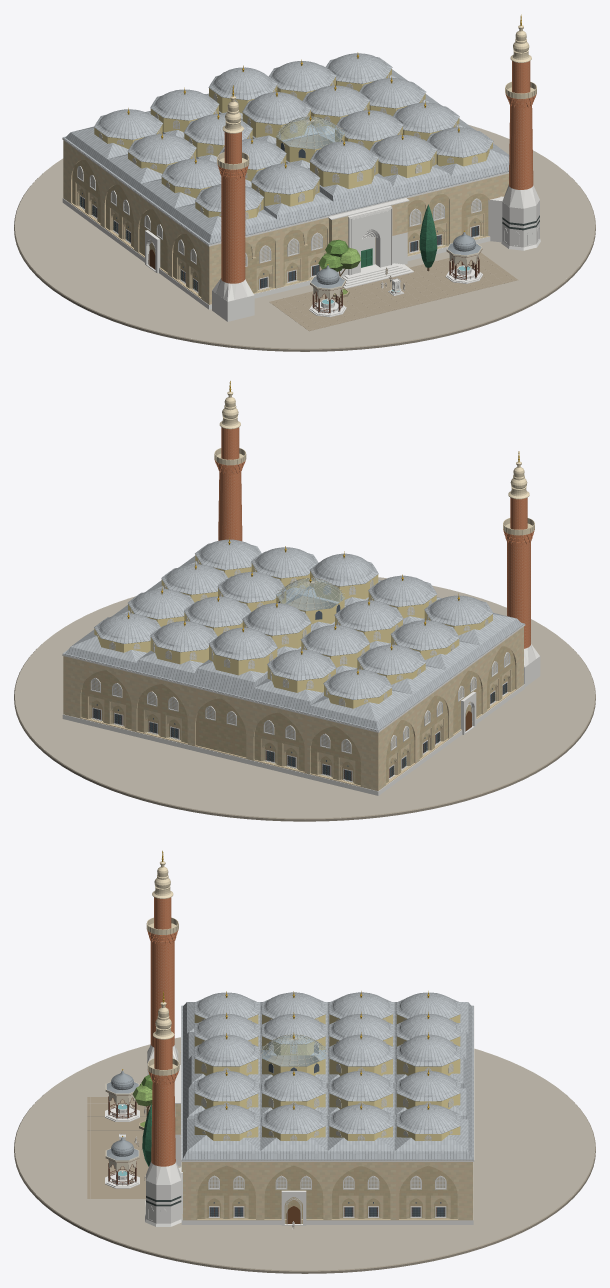
Rendered from ulu-cami_v32_sunum.glb.
3 views of the same model, one above another, from view 1: azimuth 30°, elevation 25°; view 2: azimuth 150°, elevation 25°; view 3: azimuth 270°, elevation 25° (orthographic).
Visible parts, largest first — view 1: Zemin_Kaide, Kubbeler_19, Cati, Cephe_Kuzey, Cephe_Dogu, Minare_1, Zemin_Avlu_Tas, Minare_2, Pencere_Girintileri, Tac_Kapi, Sadirvan_Kubbe, Giris_Cikintili_Blok (+10 smaller); view 2: Zemin_Kaide, Kubbeler_19, Cephe_Guney, Cati, Cephe_Dogu, Pencere_Girintileri, Minare_2, Minare_1, Mermer_Bant, Sadirvan_Kubbe, Kasnak_Pencereleri, Silme_Ust (+2 smaller); view 3: Zemin_Kaide, Kubbeler_19, Cephe_Bati, Cati, Minare_1, Zemin_Avlu_Tas, Minare_2, Pencere_Girintileri, Sadirvan_Kubbe, Kasnak_Pencereleri, Mermer_Bant, Avlu_Sadirvan_Bati (+5 smaller).
Part boxes in pixels (x1,y1,x2,y2): Zemin_Kaide: (14, 124, 595, 351); Kubbeler_19: (94, 53, 493, 219); Cati: (62, 69, 509, 244); Cephe_Kuzey: (208, 173, 508, 304); Cephe_Dogu: (64, 141, 208, 304); Minare_1: (488, 14, 540, 250); Zemin_Avlu_Tas: (269, 252, 517, 331); Minare_2: (212, 85, 254, 321); Pencere_Girintileri: (76, 182, 484, 295); Tac_Kapi: (342, 206, 413, 288); Sadirvan_Kubbe: (276, 117, 344, 162); Giris_Cikintili_Blok: (328, 198, 409, 277); Zemin_Kaide: (14, 577, 595, 821); Kubbeler_19: (94, 539, 493, 708); Cephe_Guney: (63, 656, 378, 790); Cati: (63, 556, 524, 731); Cephe_Dogu: (379, 627, 523, 790); Pencere_Girintileri: (87, 669, 511, 783); Minare_2: (503, 451, 540, 686); Minare_1: (214, 381, 246, 541); Mermer_Bant: (62, 684, 524, 795); Sadirvan_Kubbe: (276, 578, 344, 624); Kasnak_Pencereleri: (97, 560, 488, 706); Silme_Ust: (62, 624, 525, 732); Zemin_Kaide: (14, 1037, 595, 1273); Kubbeler_19: (194, 992, 460, 1140); Cephe_Bati: (183, 1162, 471, 1223); Cati: (181, 1002, 473, 1160); Minare_1: (145, 991, 182, 1226); Zemin_Avlu_Tas: (87, 1097, 150, 1198); Minare_2: (146, 850, 178, 1075); Pencere_Girintileri: (204, 1195, 450, 1218); Sadirvan_Kubbe: (261, 1035, 325, 1075); Kasnak_Pencereleri: (201, 1014, 460, 1140); Mermer_Bant: (181, 1162, 473, 1224); Avlu_Sadirvan_Bati: (105, 1136, 139, 1188).
Bounding box in the file's own units: 111 × 48.52 × 111.
60 materials, 16 textured.
